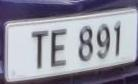1: (111, 21, 125, 61)
8: (77, 21, 96, 68)
9: (95, 21, 113, 63)
E: (49, 23, 72, 74)
T: (28, 25, 53, 76)
